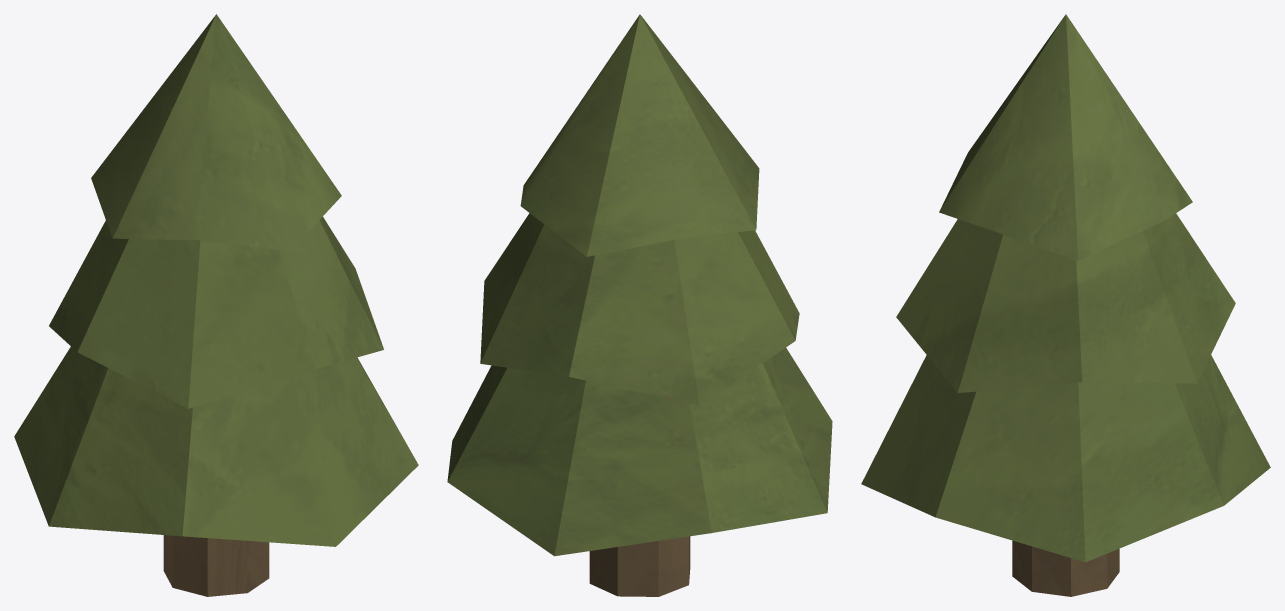
Rendered from tree.fbx.
3 views of the same model, side by side, from view 1: azimuth 30°, elevation 25°; view 2: azimuth 150°, elevation 25°; view 3: azimuth 270°, elevation 25° (orthographic).
Parts seen in each view (by area): view 1: Pyramid001.001; view 2: Pyramid001.001; view 3: Pyramid001.001.
Boxes of the visible parts, <box> form: Pyramid001.001: <box>14,14,418,596</box>; Pyramid001.001: <box>447,14,832,596</box>; Pyramid001.001: <box>861,14,1270,596</box>.
Size of the model in its own units: 1884 by 2843 by 1884.
